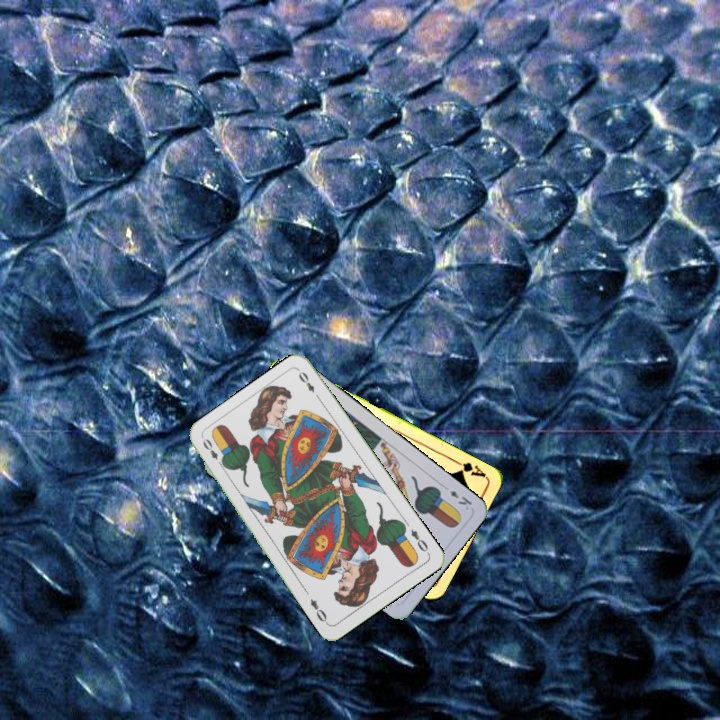EK: (438, 481, 475, 512)
EO: (198, 434, 227, 470), (407, 525, 432, 557)
GA: (450, 456, 488, 480)
